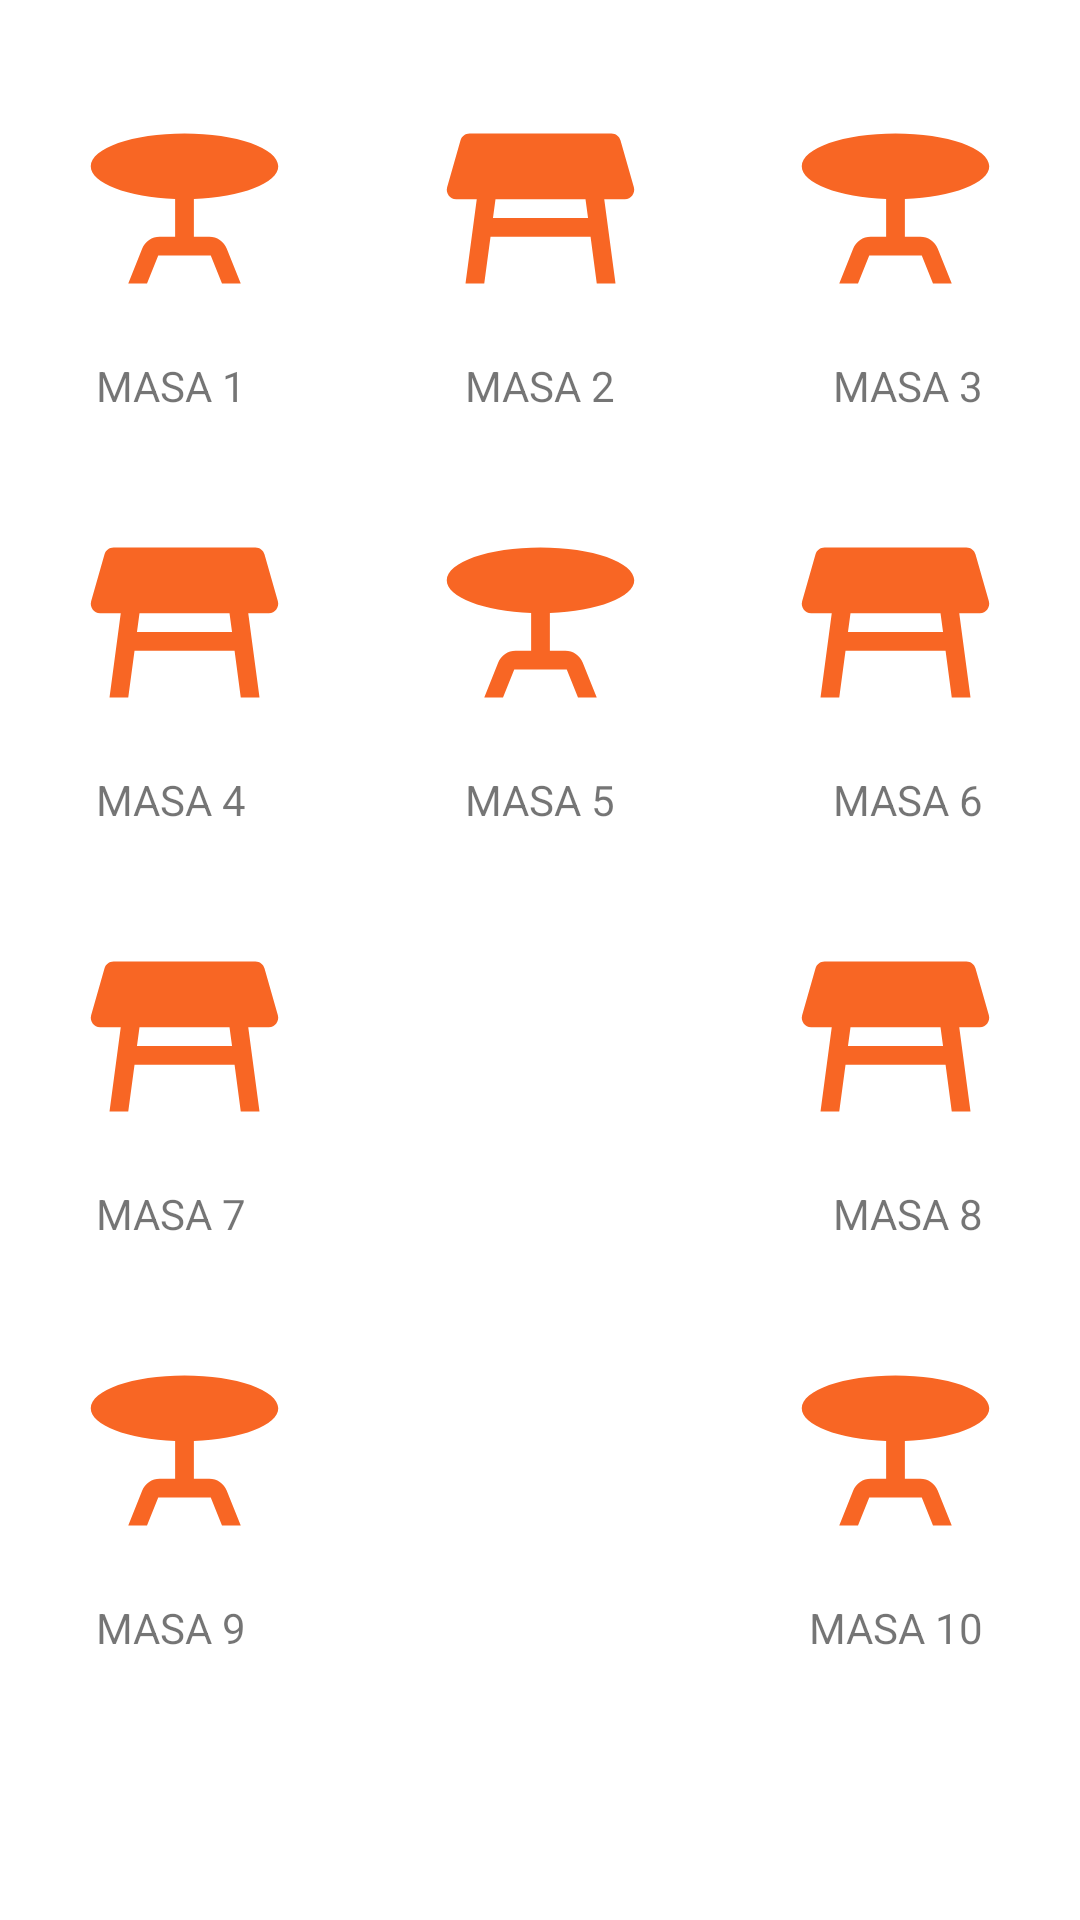

Where icons sit on this 1080w x 1920h app screen, as {"x1": x1, "y1": y1, "x2": x2, "y2": y2}:
elipstable: {"x1": 90, "y1": 133, "x2": 279, "y2": 284}, {"x1": 801, "y1": 133, "x2": 990, "y2": 284}, {"x1": 446, "y1": 547, "x2": 635, "y2": 698}, {"x1": 90, "y1": 1375, "x2": 279, "y2": 1526}, {"x1": 801, "y1": 1375, "x2": 990, "y2": 1526}
tableorange: {"x1": 446, "y1": 133, "x2": 635, "y2": 284}, {"x1": 90, "y1": 547, "x2": 279, "y2": 698}, {"x1": 801, "y1": 547, "x2": 990, "y2": 698}, {"x1": 90, "y1": 961, "x2": 279, "y2": 1112}, {"x1": 801, "y1": 961, "x2": 990, "y2": 1112}
